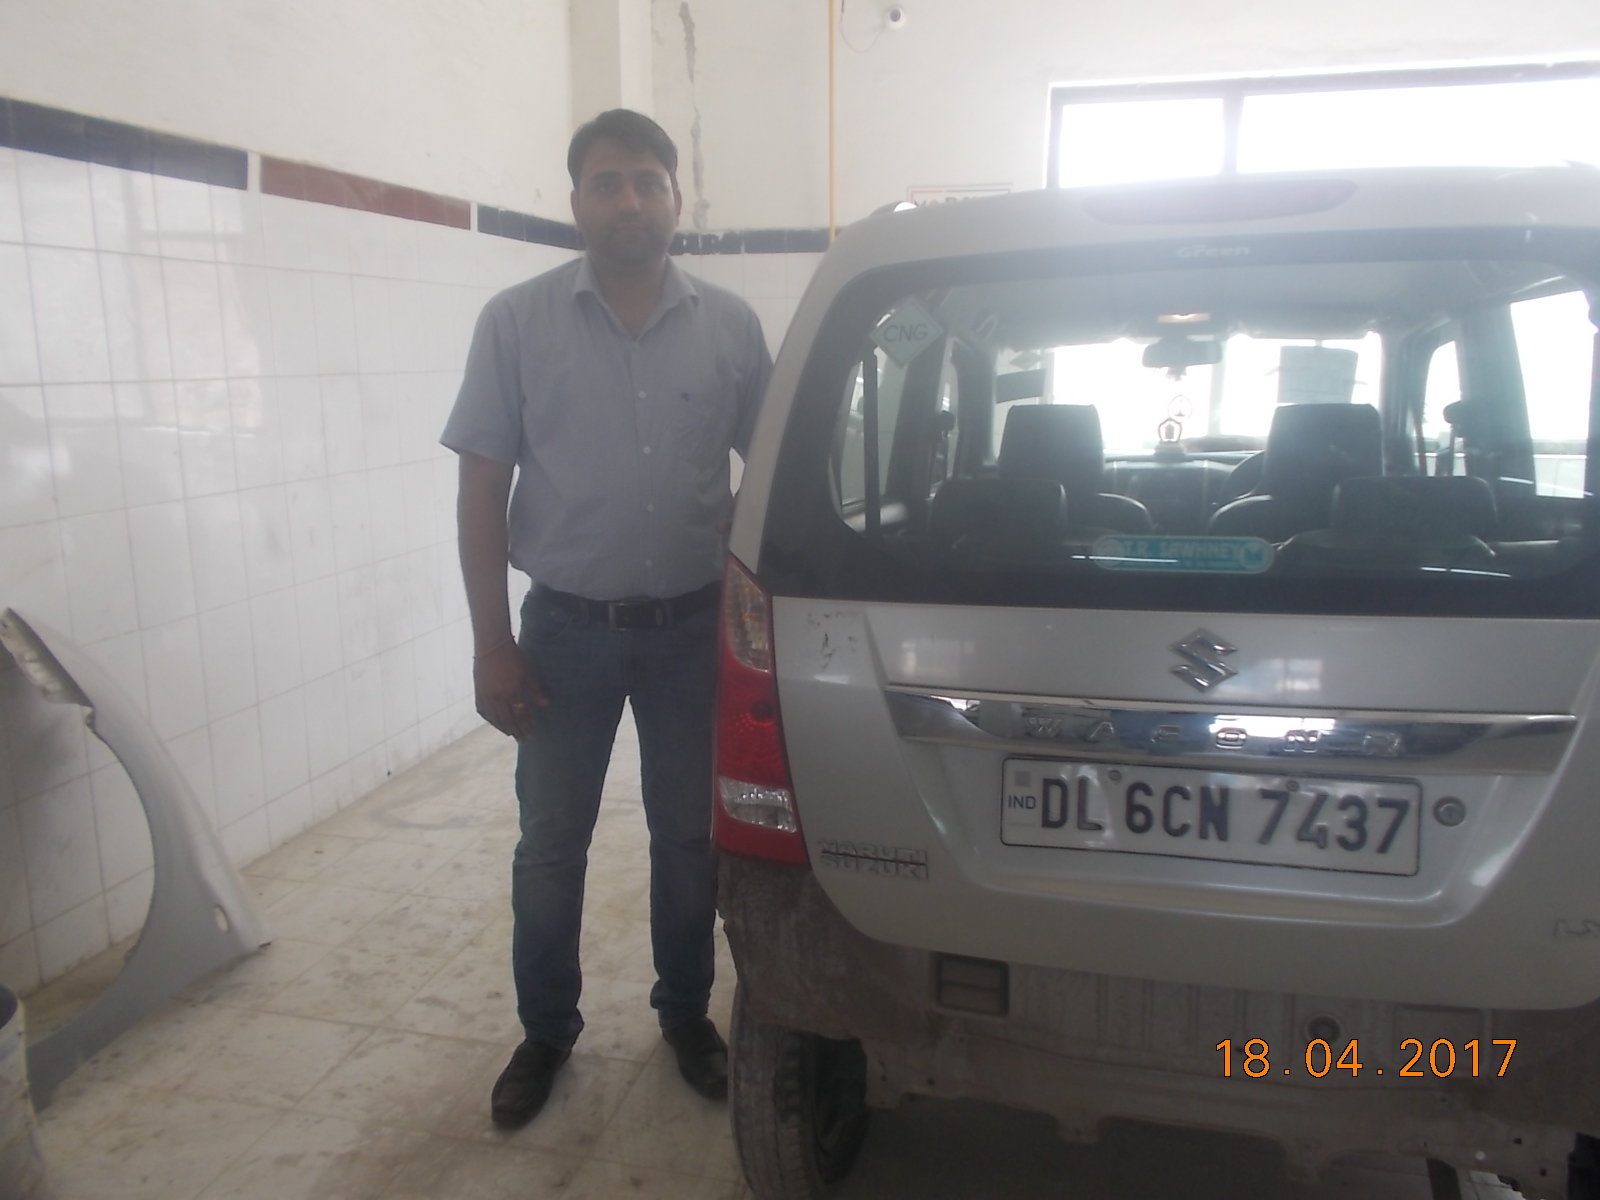Large_tear_or_damage: (709, 768, 1597, 1161)
